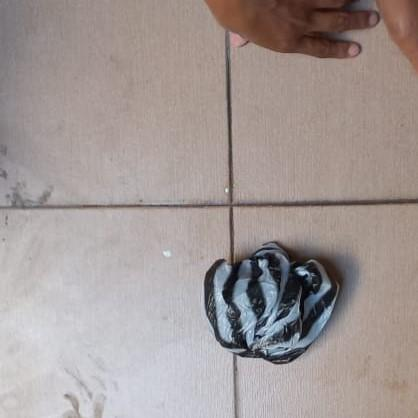Plastik: (204, 240, 342, 364)
